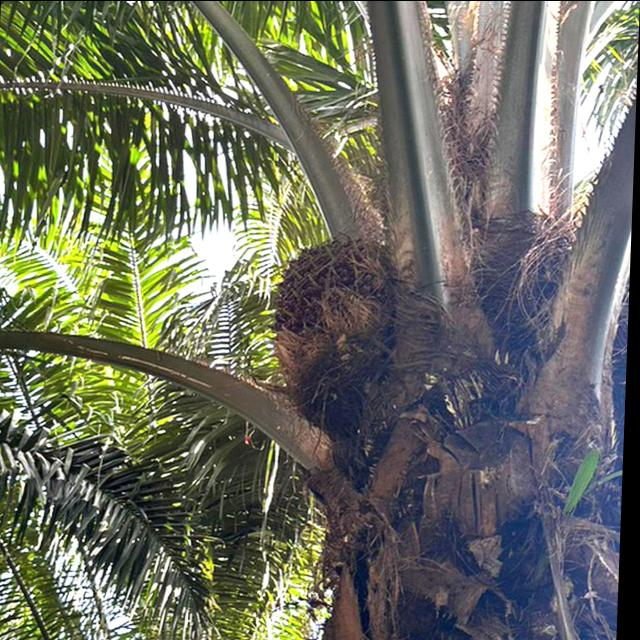almost: (264, 228, 405, 388)
